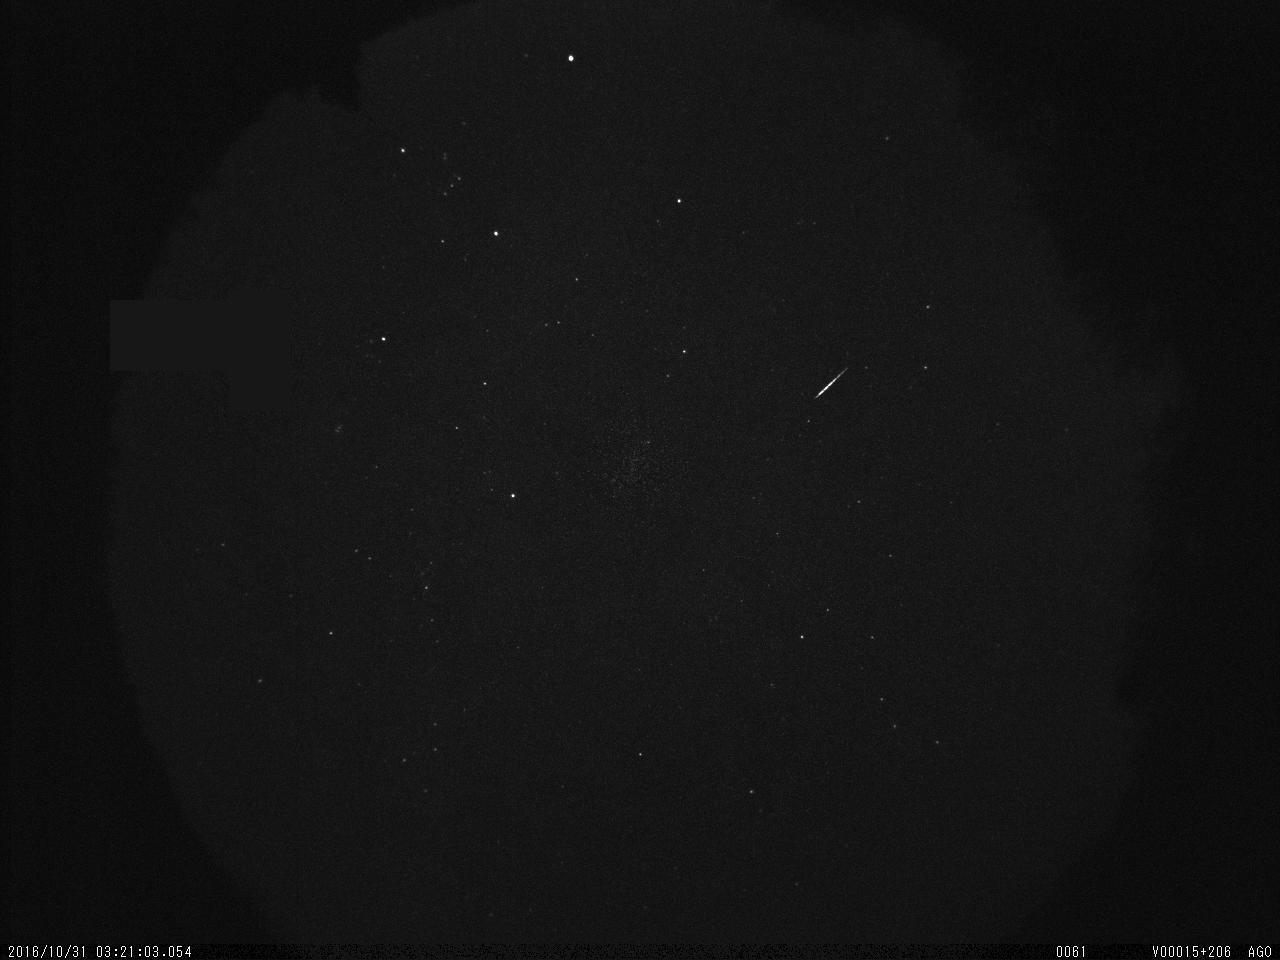meteor: (786, 346, 904, 412)
